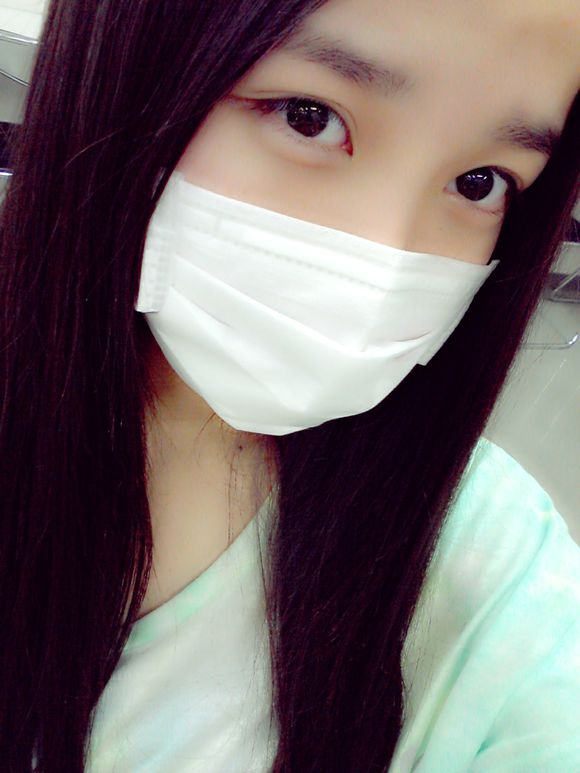face_mask: (148, 1, 558, 448)
